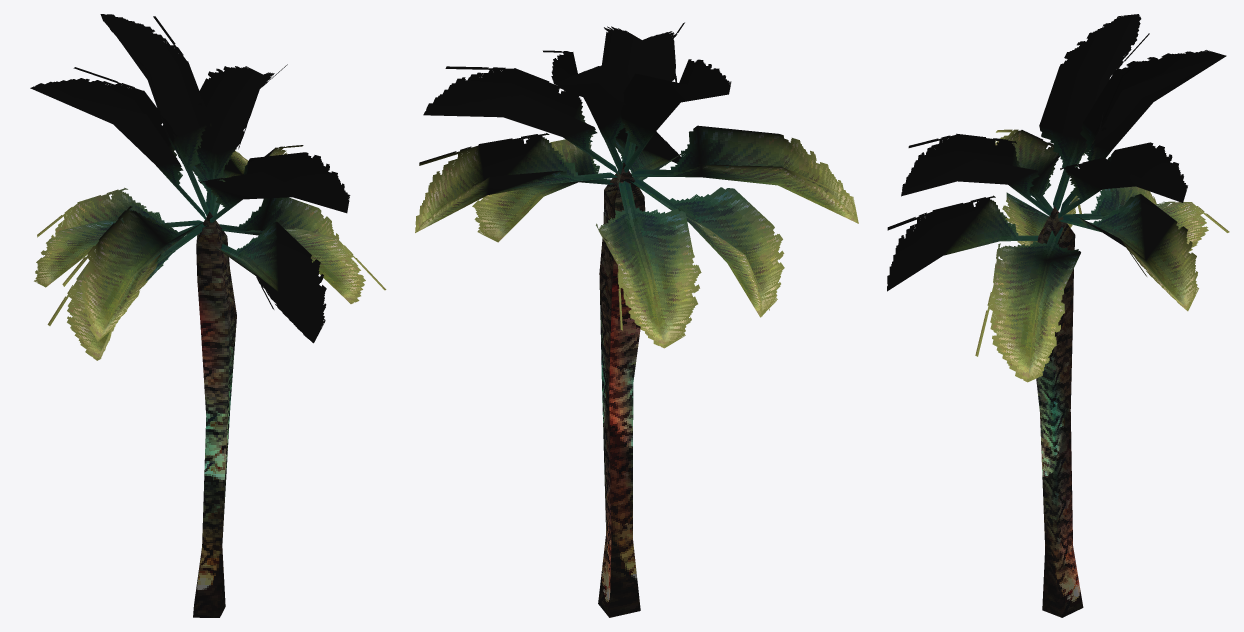
Rendered from stage-lasv-p3-1305.glb.
3 renders of one model, left to right at view 1: azimuth 30°, elevation 25°; view 2: azimuth 150°, elevation 25°; view 3: azimuth 270°, elevation 25°, orthographic. The views are drawn at different scales.
Bounding box in the file's own units: 4.91 × 7.72 × 4.38.
2 materials, 2 textured.
